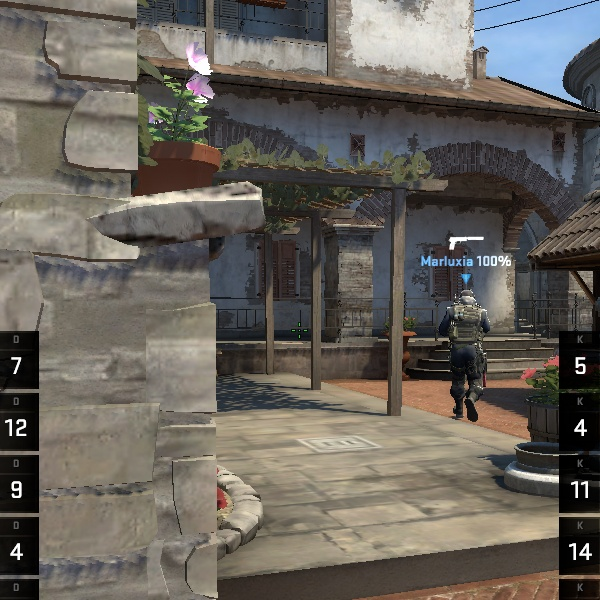ct_body: (429, 283, 504, 427)
ct_head: (451, 283, 481, 312)
